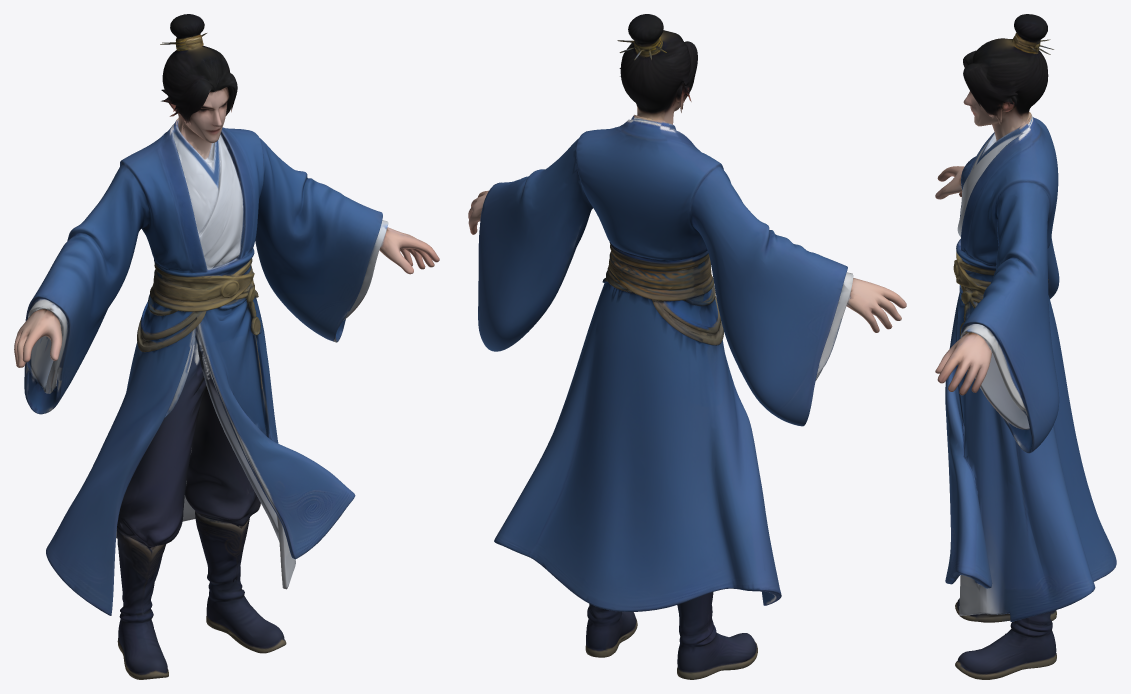
File: character_raw.glb
3 renders of one model, left to right at view 1: azimuth 30°, elevation 25°; view 2: azimuth 150°, elevation 25°; view 3: azimuth 270°, elevation 25°, orthographic. The views are drawn at different scales.
Parts seen in each view (by area): view 1: node_0; view 2: node_0; view 3: node_0.
Part boxes in pixels (x1,y1,x2,y2): node_0: [14, 14, 439, 679]; node_0: [468, 14, 906, 679]; node_0: [935, 14, 1116, 679].
Size of the model in its own units: 0.8019 by 1.15 by 0.3007.
1 material, 1 textured.
